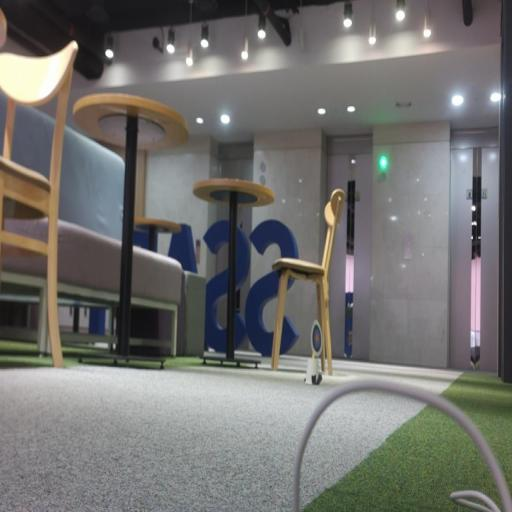target: (311, 320, 323, 357)
